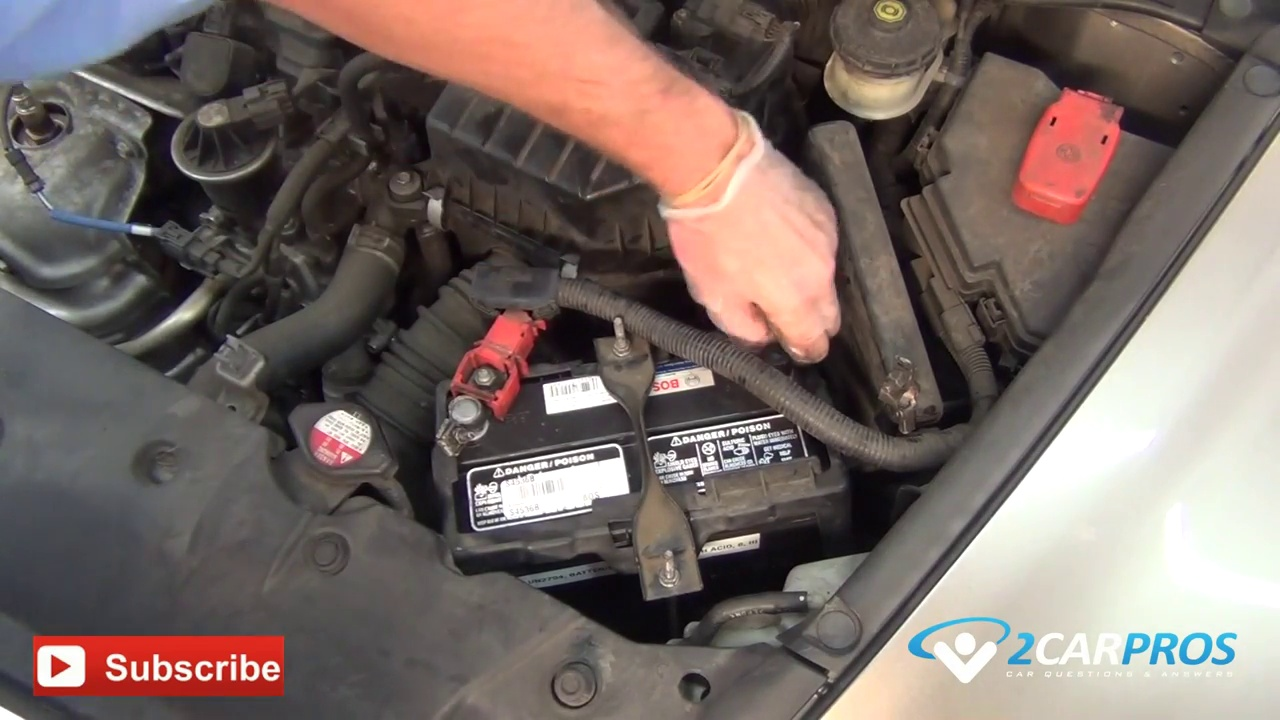battery: (422, 329, 885, 576)
pos_connected: (429, 273, 568, 461)
